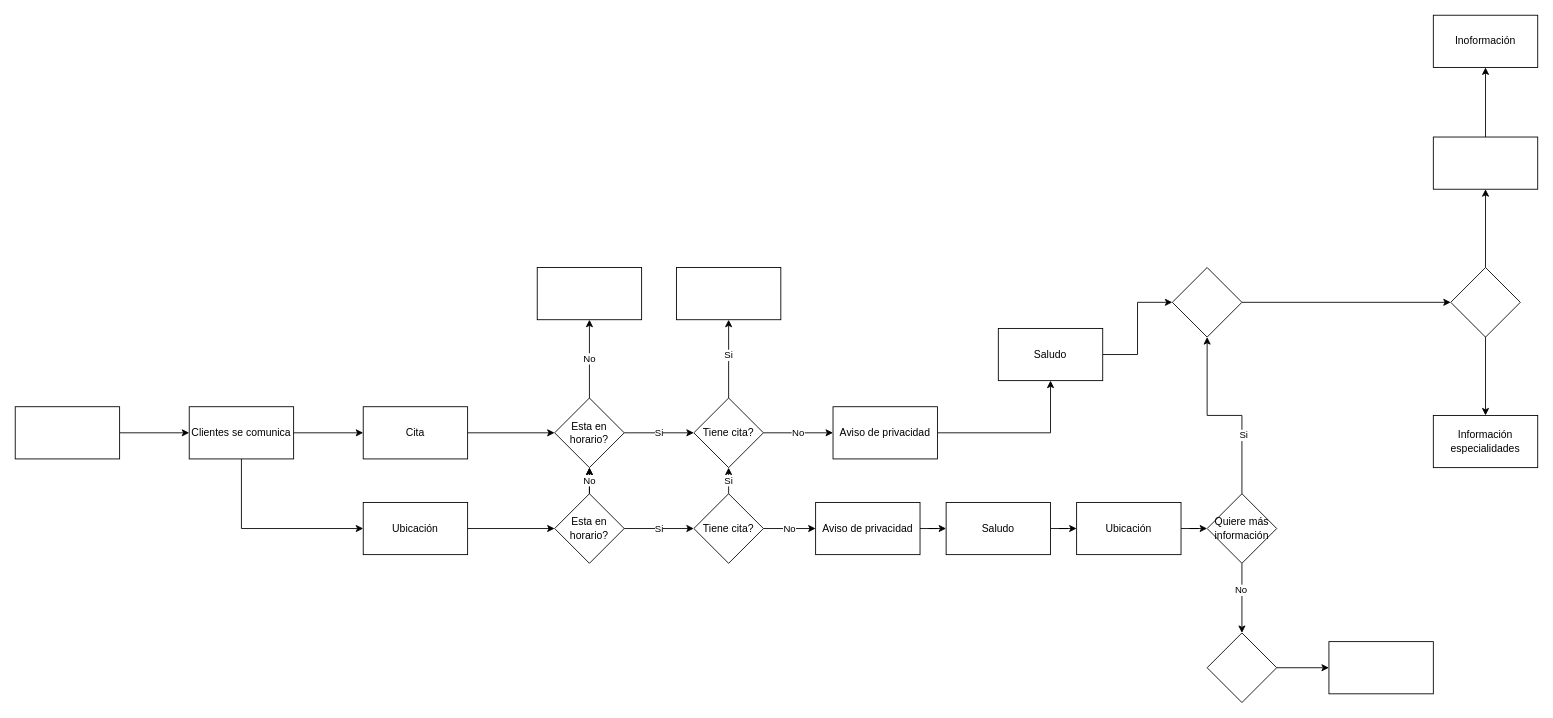
This 1553x718 diagram has some shape labels left out. Here are the shapes that lost their labels. From the top down, the box of each, then its label:
(1432, 136, 1538, 189): Valoración
(536, 267, 642, 320): Disculpe, entramos a las 7 am
(676, 267, 781, 320): Un agente de atención al cliente se comunica
(1171, 267, 1242, 337): Ha sido paciente de MC?
(1450, 267, 1520, 337): Desea valoración o quiere especialidades
(14, 406, 120, 459): Inicio
(1206, 632, 1277, 703): Tiene alguna duda?
